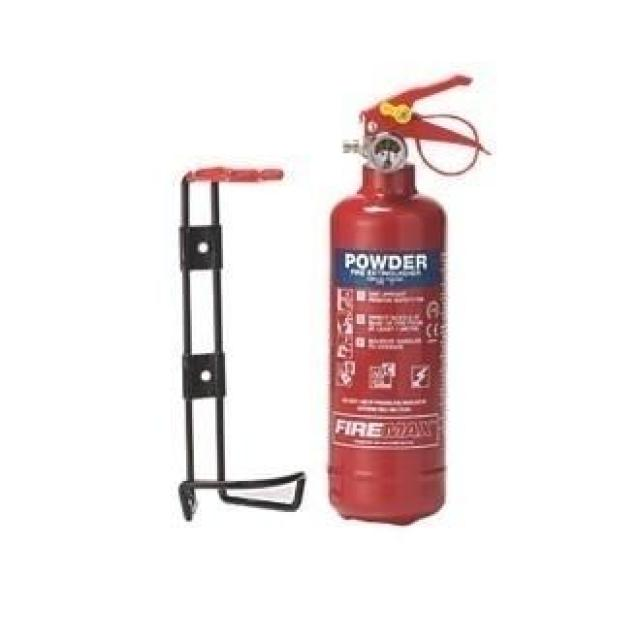fire_extinguisher: (318, 69, 493, 526)
